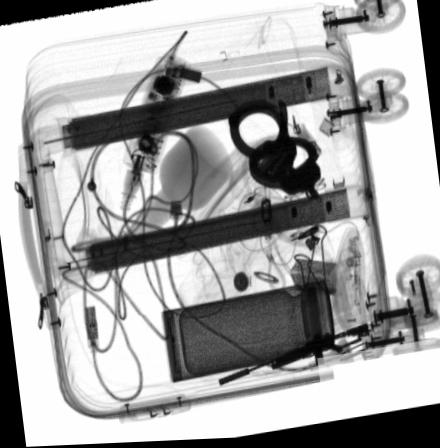Gun: (217, 324, 370, 389)
HandCuffs: (226, 101, 321, 205)
